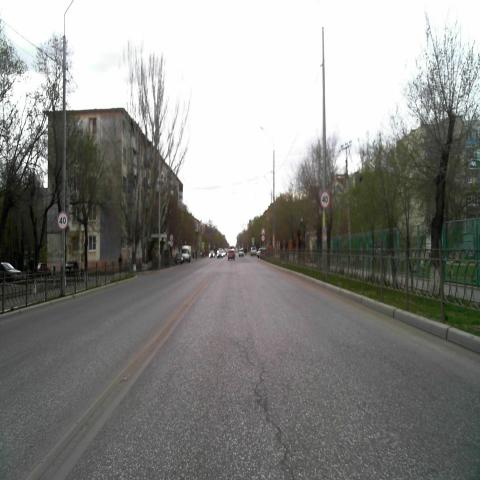3_24: (57, 210, 68, 230), (320, 190, 330, 209)
